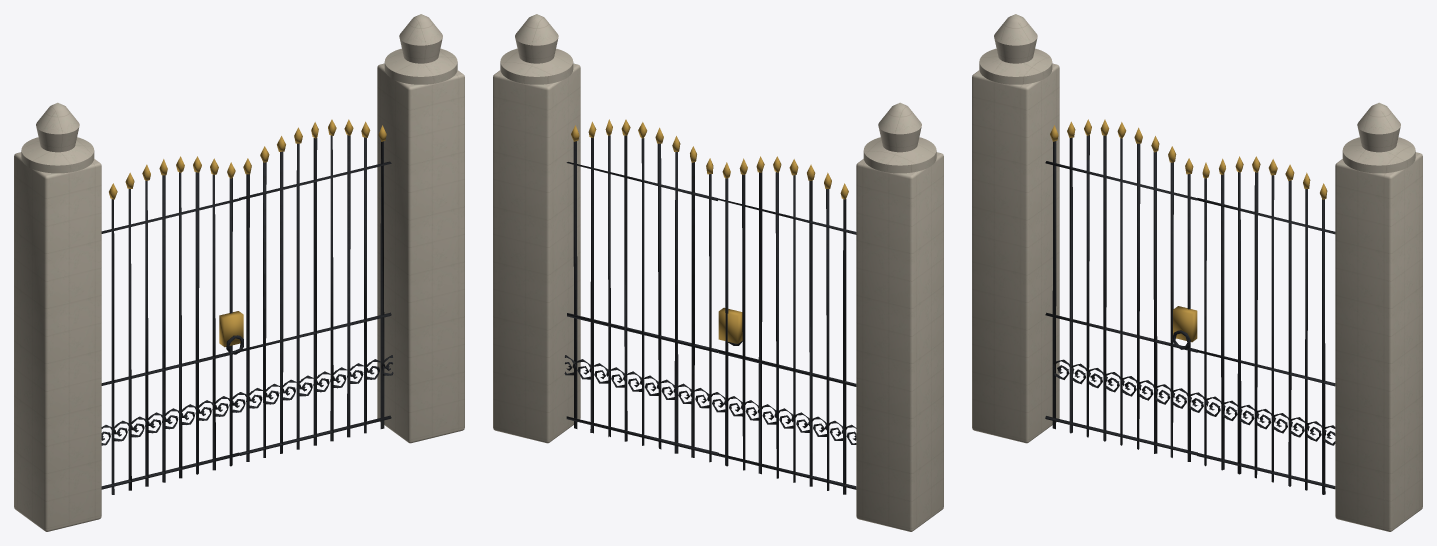
The model's file is portao-ferro-medio.glb.
3 renders of one model, left to right at view 1: azimuth 30°, elevation 25°; view 2: azimuth 150°, elevation 25°; view 3: azimuth 330°, elevation 25°, orthographic.
Visible parts, largest first — view 1: pilar--1, pilar-1, folha-dir, folha-esq, pinha--1, pinha-1; view 2: pilar--1, pilar-1, folha-dir, folha-esq, pinha--1, pinha-1; view 3: pilar-1, pilar--1, folha-esq, folha-dir, pinha--1, pinha-1.
Part boxes in pixels (x1,y1,x2,y2): pilar--1: (14,152,101,531); pilar-1: (377,63,464,443); folha-dir: (239,119,393,461); folha-esq: (101,156,251,494); pinha--1: (21,102,94,173); pinha-1: (384,14,457,84); pilar--1: (856,152,943,531); pilar-1: (493,63,580,443); folha-dir: (564,119,718,462); folha-esq: (707,156,856,494); pinha--1: (863,102,936,173); pinha-1: (500,14,573,84); pilar-1: (1335,152,1422,531); pilar--1: (972,63,1059,443); folha-esq: (1045,119,1208,461); folha-dir: (1196,156,1335,494); pinha--1: (979,14,1052,84); pinha-1: (1342,102,1415,173).
Bounding box in the file's own units: 3.38 × 3.12 × 0.5001.
3 materials, 2 textured.
